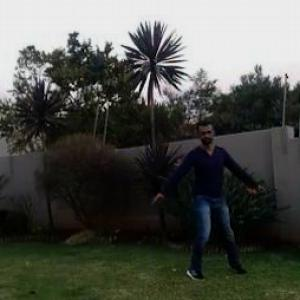land: (125, 109, 273, 289)
